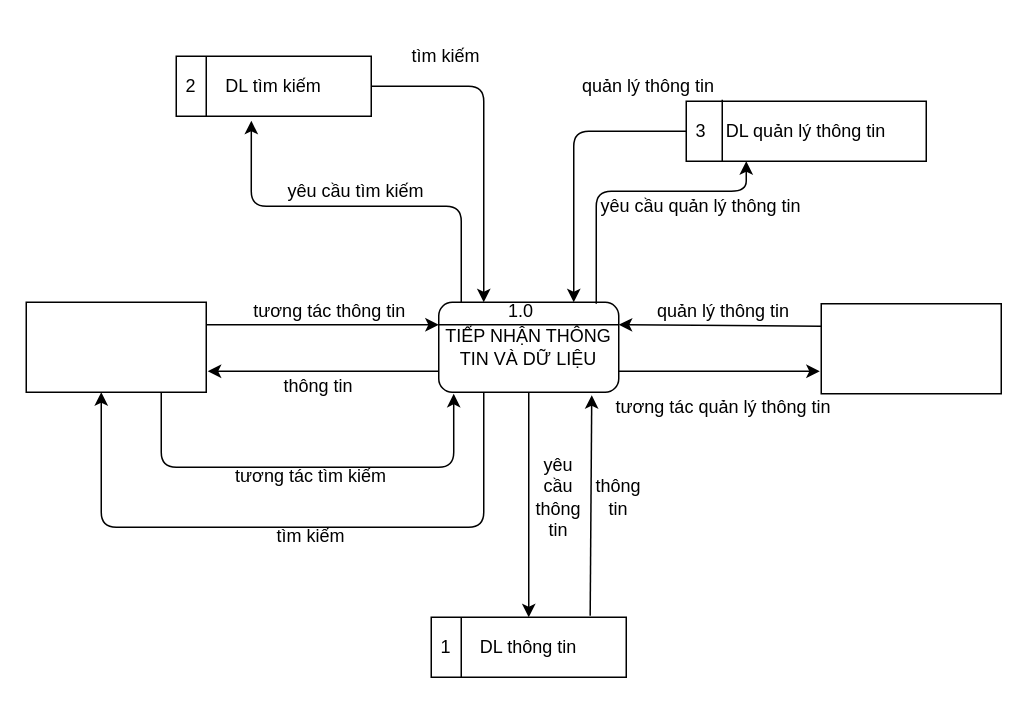
Image size: 1028x705. Some labels were removed from this diagram. Here are the shapes that lost their labels. From the top down, the centre of each, then its label:
(115,346): KHÁCH HÀNG
(910,348): QUẢN TRỊ VIÊN
